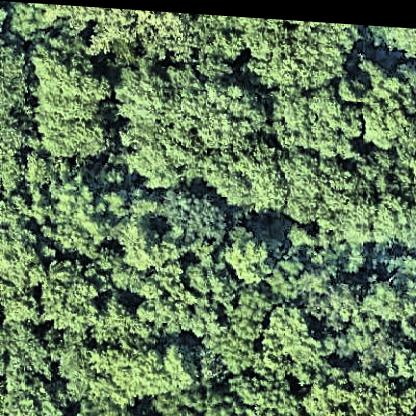tree-top: (121, 65, 278, 207), (30, 48, 118, 165), (282, 144, 380, 237), (140, 241, 231, 334), (244, 19, 351, 90), (114, 6, 234, 64), (342, 271, 416, 363), (307, 355, 416, 416), (98, 334, 197, 400), (352, 50, 415, 151), (53, 170, 122, 253), (200, 73, 266, 152), (298, 74, 362, 153), (36, 255, 100, 330), (262, 297, 325, 371), (0, 215, 47, 313), (157, 178, 227, 242), (282, 243, 358, 300), (218, 216, 278, 283), (0, 36, 34, 147), (5, 0, 104, 37), (166, 372, 249, 416), (0, 370, 70, 416), (244, 368, 308, 416), (2, 318, 56, 374), (391, 236, 416, 294), (372, 19, 416, 50), (92, 401, 152, 416)
